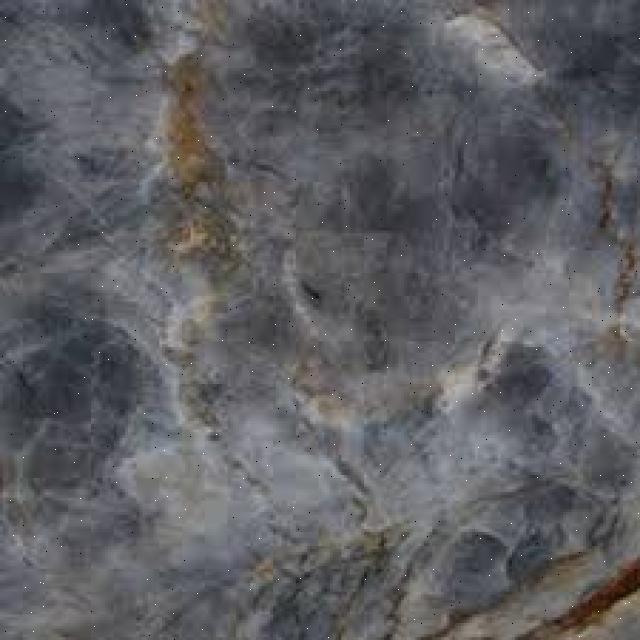Metamorphic: (11, 3, 634, 634)
